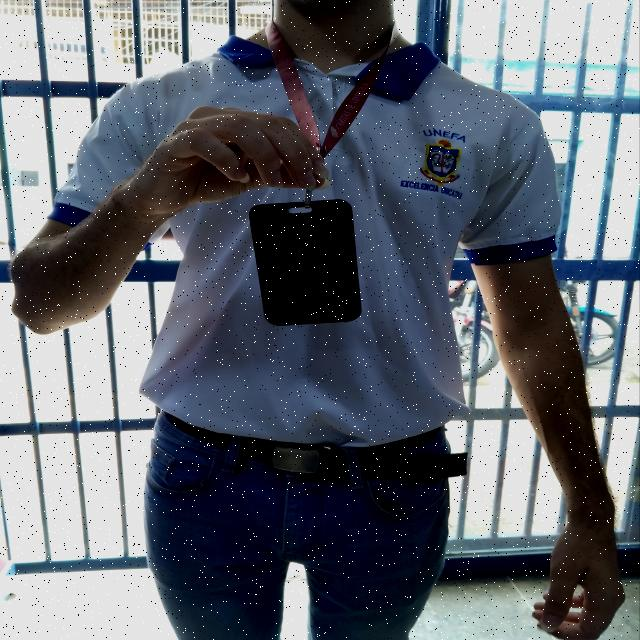carnet: (247, 198, 364, 327)
uniforme_superior: (45, 33, 561, 449)
